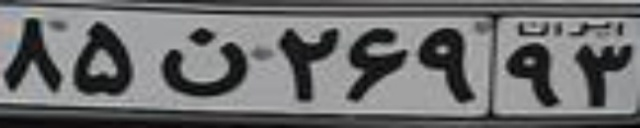2: (278, 26, 338, 101)
3: (575, 43, 632, 108)
5: (72, 19, 133, 96)
6: (343, 26, 407, 102)
8: (2, 15, 63, 94)
9: (416, 26, 476, 103), (506, 41, 560, 107)
non: (158, 27, 250, 97)
